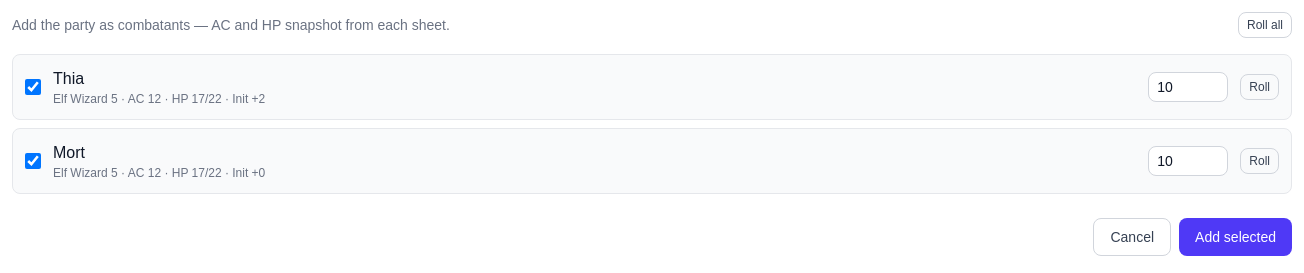
Test case: AddPartyDialog › "Roll all" rolls every row at once
Click the button "Roll all" at (1265, 25), box [1238,12,1292,38]
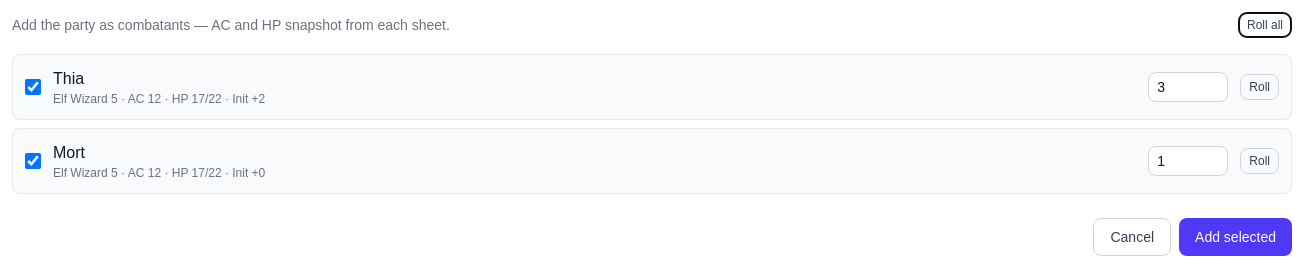
expect the number field named "initiative for thia" holds "3": met, box [1148,72,1228,102]
expect the number field named "initiative for mort" holds "1": met, box [1148,146,1228,176]
